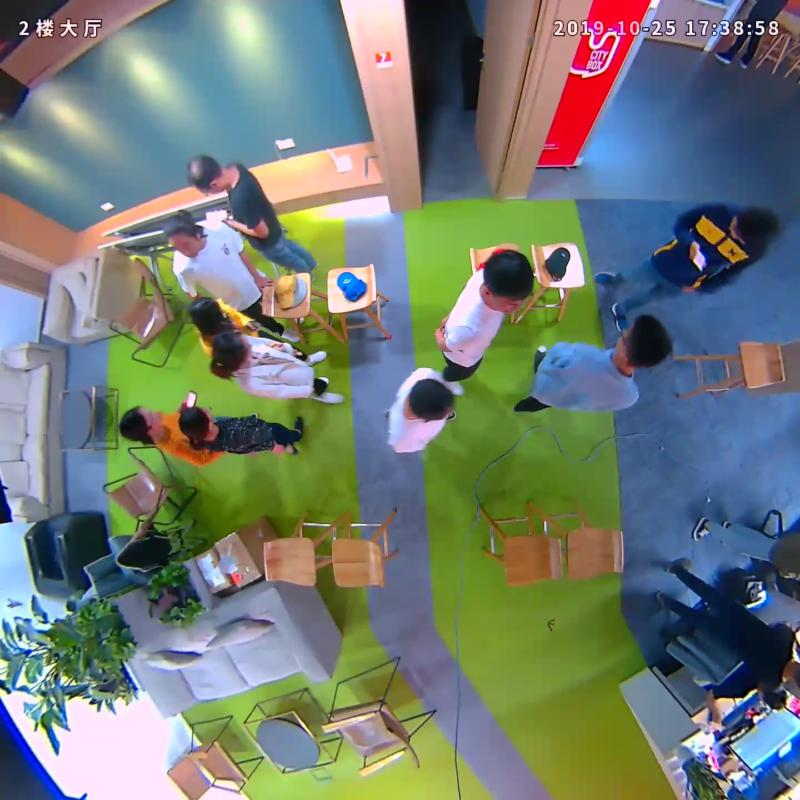head: (482, 249, 534, 314), (616, 313, 673, 369), (729, 207, 779, 248), (409, 379, 455, 422), (162, 215, 205, 259), (185, 155, 227, 195), (118, 405, 165, 440), (212, 330, 253, 366), (189, 295, 224, 331), (177, 404, 214, 437)
